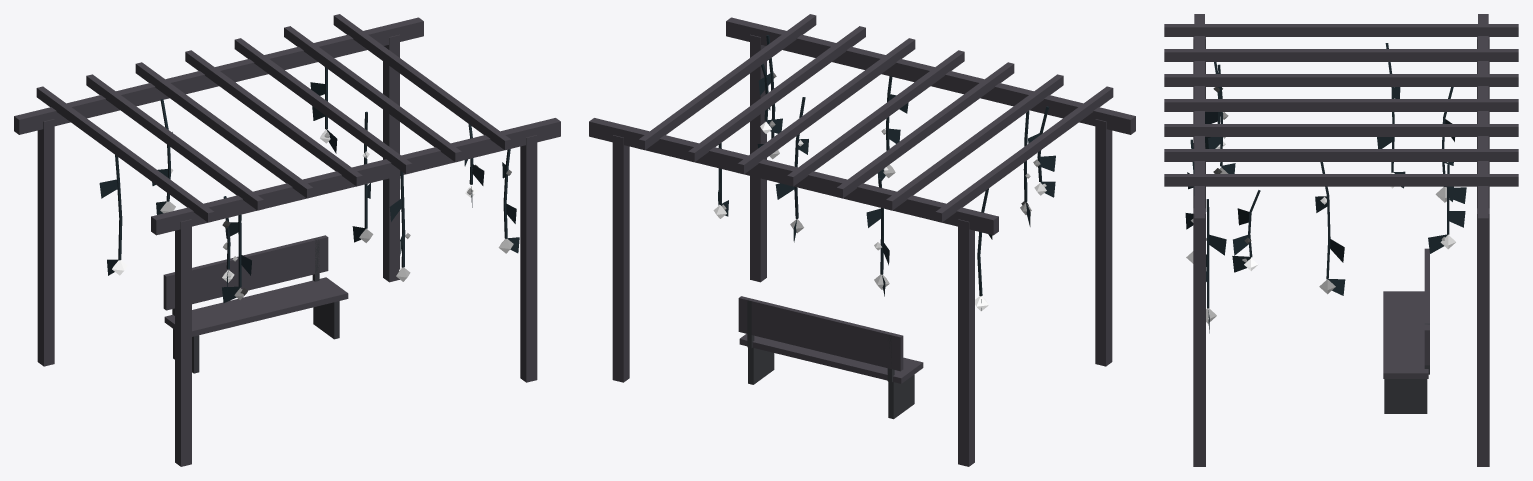
Rendered from pergola_4m.glb.
3 views of the same model, side by side, from view 1: azimuth 30°, elevation 25°; view 2: azimuth 150°, elevation 25°; view 3: azimuth 270°, elevation 25° (orthographic). The views are drawn at different scales.
Visible parts, largest first — view 1: pergola_4m; view 2: pergola_4m; view 3: pergola_4m.
Part boxes in pixels (box(x1,y1,x2,y2)): pergola_4m: box(14, 14, 560, 466); pergola_4m: box(589, 14, 1135, 466); pergola_4m: box(1164, 14, 1518, 466).
Bounding box in the file's own units: 4.5 × 2.77 × 3.3.
Materials: 4 (1 with a texture image).
